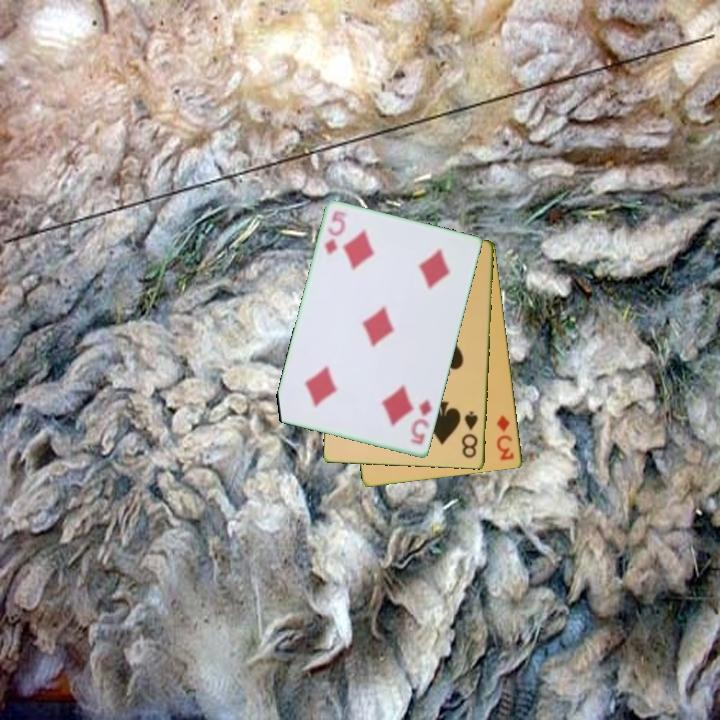3d: (493, 412, 517, 464)
5d: (406, 396, 435, 448), (322, 207, 350, 258)
8s: (459, 408, 481, 461)
